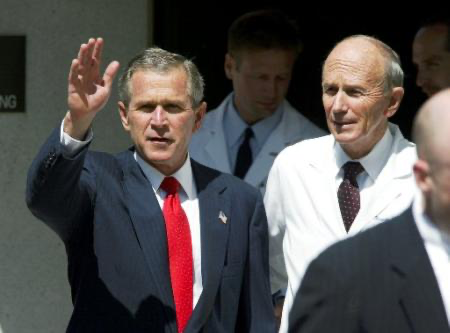Face: (320, 60, 383, 142), (131, 82, 191, 164), (411, 37, 449, 113), (247, 57, 291, 121)
